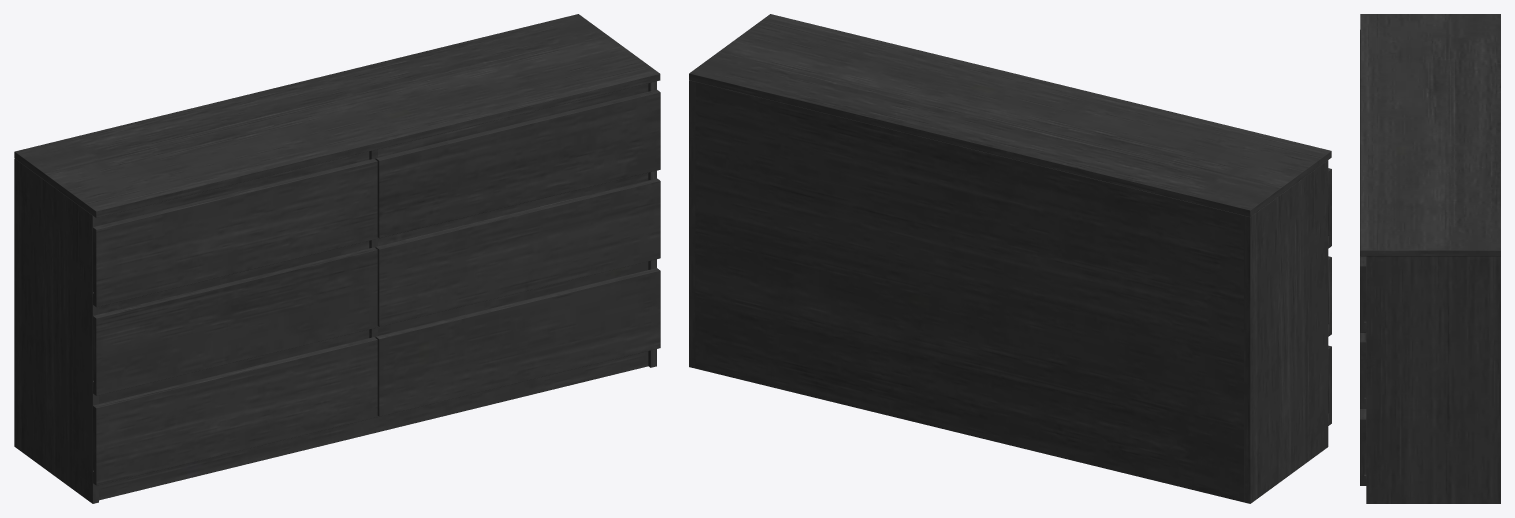
Rendered from abo-B07GFRWK15.glb.
3 renders of one model, left to right at view 1: azimuth 30°, elevation 25°; view 2: azimuth 150°, elevation 25°; view 3: azimuth 270°, elevation 25°, orthographic. The views are drawn at different scales.
Bounding box in the file's own units: 1.59 × 0.795 × 0.4.
1 material, 1 textured.
